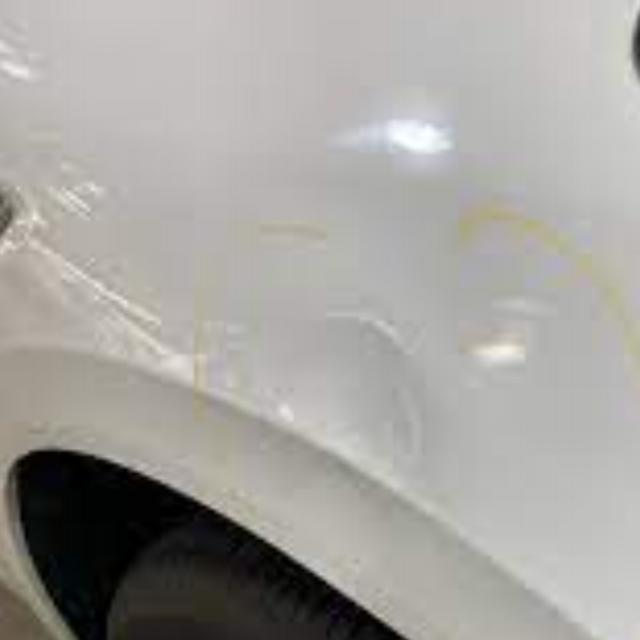dents: (310, 309, 441, 513)
